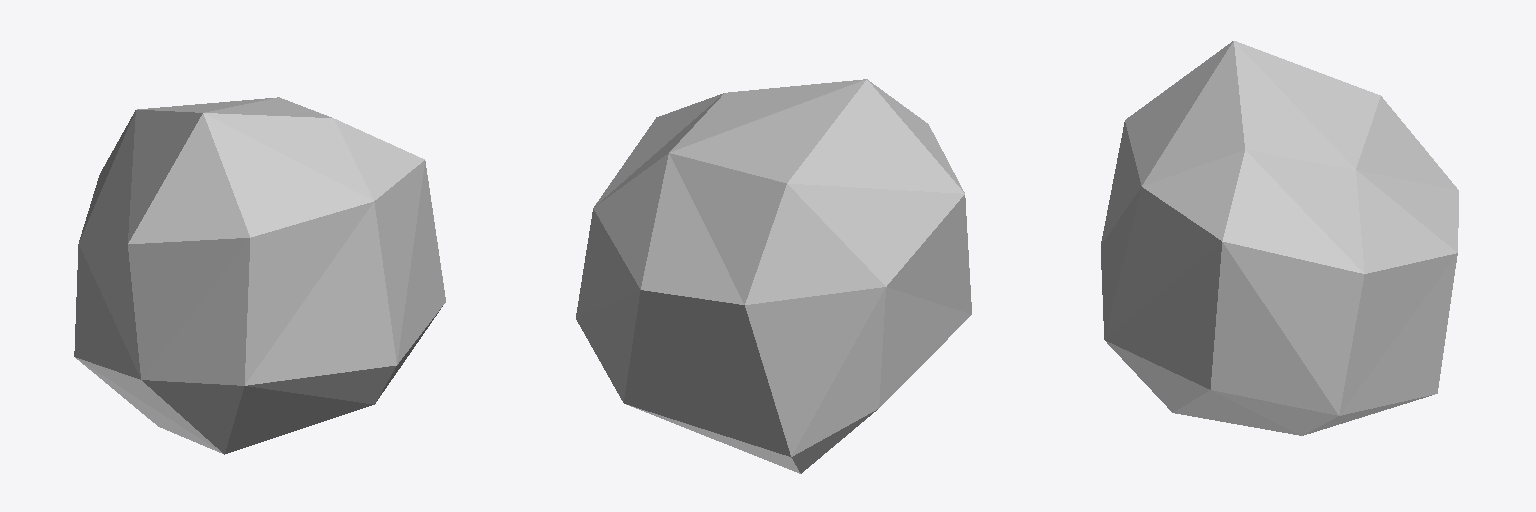
The model's file is rock4.obj.
3 renders of one model, left to right at view 1: azimuth 30°, elevation 25°; view 2: azimuth 150°, elevation 25°; view 3: azimuth 270°, elevation 25°, orthographic.
Parts seen in each view (by area): view 1: Cube2_sep46; view 2: Cube2_sep46; view 3: Cube2_sep46.
Part boxes in pixels (x1,y1,x2,y2): Cube2_sep46: (74, 97, 445, 454); Cube2_sep46: (576, 79, 971, 473); Cube2_sep46: (1101, 41, 1458, 435).
Size of the model in its own units: 0.7904 by 0.8287 by 0.7547.